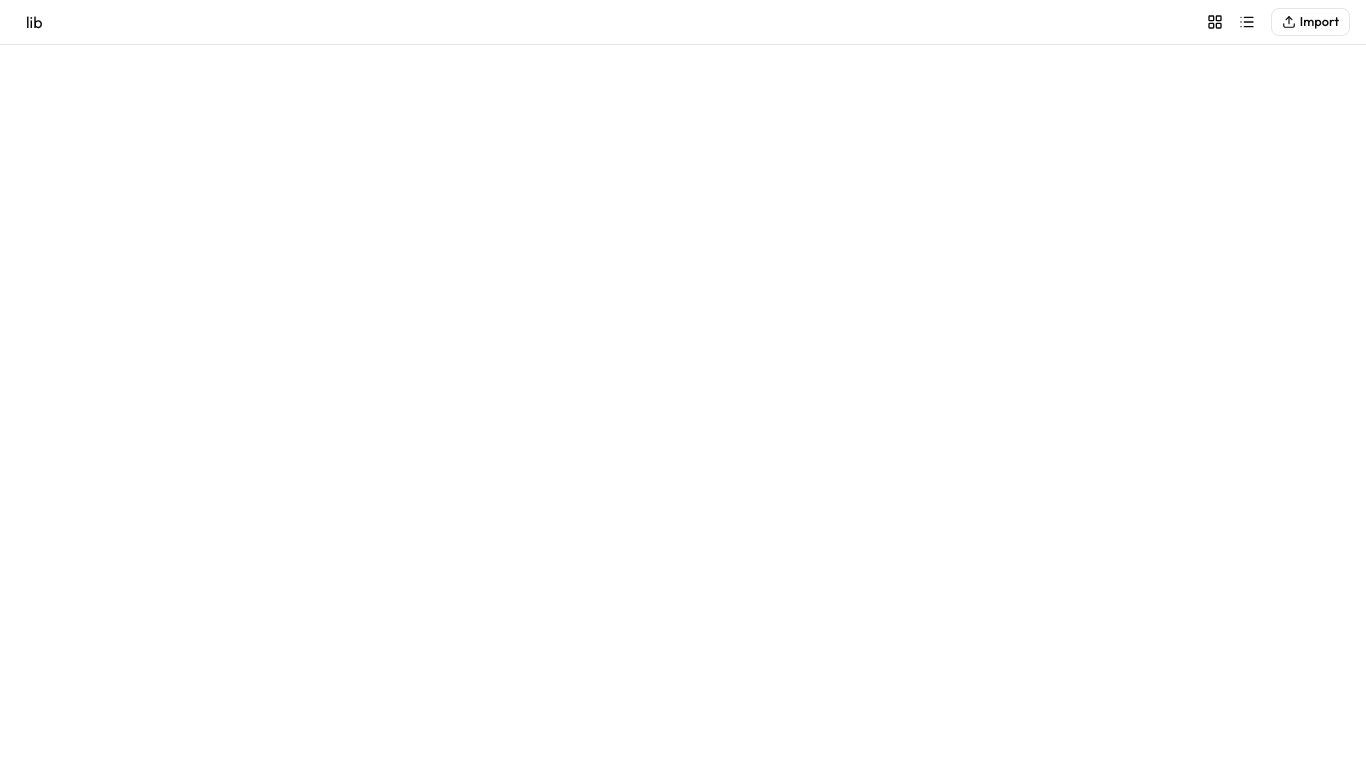
FileBrowserToolbar import dialog copy › describes the supported import file matrix
Click the button "Import". click: (1310, 22)
box: [1271,8,1350,36]
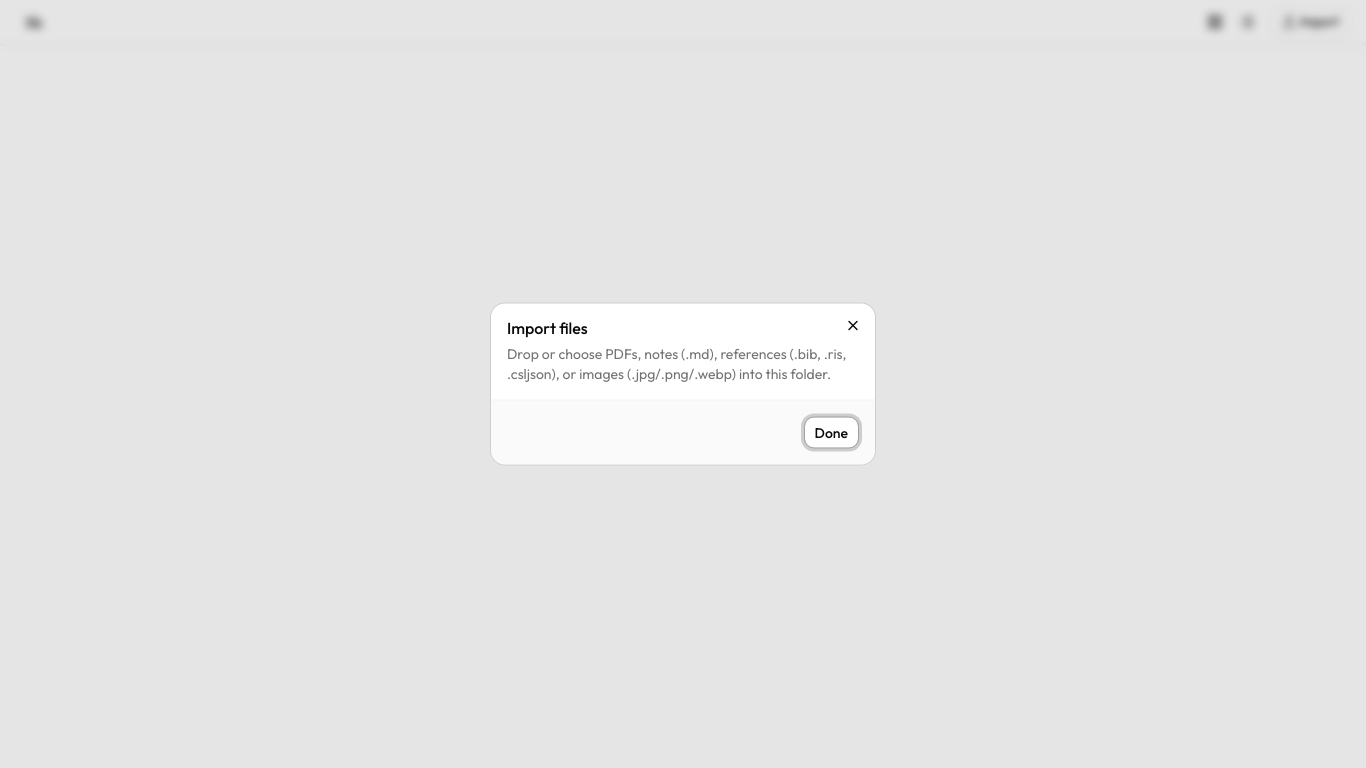
Check: the text "Drop or choose" shows "PDFs", box [507,344,846,382]
Check: the text "Drop or choose" shows "notes (.md)", box [507,344,846,382]
Check: the text "Drop or choose" shows "references (.bib, .ris, .csljson)", box [507,344,846,382]
